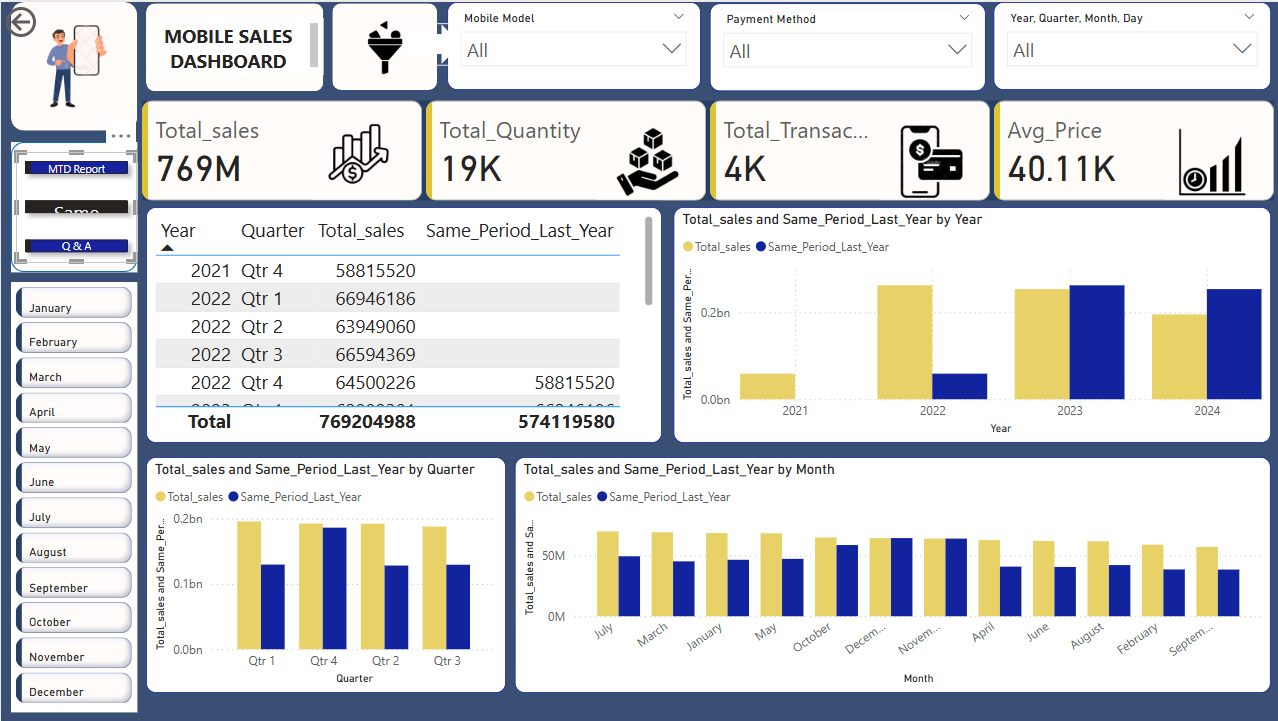

The page's visual inventory and layout, read from the dashboard file:
{"tool":"powerbi","page":{"name":"Same period last year ","canvas":[1280,720],"ordinal":2},"visuals":[{"type":"shape","box":[10,0,126.2,128.8],"z":0},{"type":"image","box":[15,6.2,121.2,112.5],"z":1000},{"type":"shape","box":[10,140,126.2,130],"z":2000},{"type":"cardVisual","fields":{"Data":["Mobile_Sales_Data.Total_sales","Mobile_Sales_Data.Total_Quantity","Mobile_Sales_Data.Total_Transactions","Mobile_Sales_Data.Avg_Price"]},"box":[136.3,94.1,1143.7,111],"z":3000},{"type":"slicer","fields":{"Values":["Mobile_Sales_Data.Mobile Model"]},"box":[446.4,0,253.4,88.1],"z":4000},{"type":"slicer","fields":{"Values":["Custom_Calendar.Date.Variation.Date Hierarchy.Year","Custom_Calendar.Date.Variation.Date Hierarchy.Quarter","Custom_Calendar.Date.Variation.Date Hierarchy.Month","Custom_Calendar.Date.Variation.Date Hierarchy.Day"]},"box":[992.9,0,277.5,88.1],"z":5000},{"type":"slicer","fields":{"Values":["Mobile_Sales_Data.Payment Method"]},"box":[708.2,1.2,276.3,88.1],"z":6000},{"type":"shape","box":[331.8,1.2,105,86.9],"z":7000},{"type":"image","box":[341.4,4.8,86.9,79.6],"z":8000},{"type":"shape","box":[404.2,21.7,57.9,42.2],"z":9000},{"type":"shape","box":[144.8,1.2,177.3,88.1],"z":10000},{"type":"textbox","box":[144.8,15.7,177.3,56.7],"z":11000},{"type":"actionButton","box":[0,0,100,40],"z":12000},{"type":"advancedSlicerVisual","fields":{"Values":["Custom_Calendar.Date.Variation.Date Hierarchy.Month"]},"box":[10,280,126.2,430],"z":13000},{"type":"tableEx","fields":{"Values":["Custom_Calendar.Date.Variation.Date Hierarchy.Year","Custom_Calendar.Date.Variation.Date Hierarchy.Quarter","Mobile_Sales_Data.Total_sales","Mobile_Sales_Data.Same_Period_Last_Year"]},"box":[145,205,516.2,236.2],"z":14000},{"type":"clusteredColumnChart","fields":{"Category":["Custom_Calendar.Date.Variation.Date Hierarchy.Year","Custom_Calendar.Date.Variation.Date Hierarchy.Quarter"],"Y":["Mobile_Sales_Data.Total_sales","Mobile_Sales_Data.Same_Period_Last_Year"]},"box":[672.5,205,597.5,236.2],"z":15000},{"type":"clusteredColumnChart","fields":{"Category":["Custom_Calendar.Date.Variation.Date Hierarchy.Year","Custom_Calendar.Date.Variation.Date Hierarchy.Quarter"],"Y":["Mobile_Sales_Data.Total_sales","Mobile_Sales_Data.Same_Period_Last_Year"]},"box":[145,455,360,236.2],"z":16000},{"type":"clusteredColumnChart","fields":{"Y":["Mobile_Sales_Data.Total_sales","Mobile_Sales_Data.Same_Period_Last_Year"],"Category":["Custom_Calendar.Date.Variation.Date Hierarchy.Month"]},"box":[513.8,455,756.2,236.2],"z":17000},{"type":"pageNavigator","box":[15,150,121.2,111.2],"z":17001}]}

Visuals, with their boxes on the page's 1280x720 design canvas (x1, y1, x2, y2). These are canvas units, not pixel positions in the 1278x721 screenshot, which may show the page scaled, cropped or inside an application window:
shape: [10, 0, 136, 129]
image: [15, 6, 136, 119]
shape: [10, 140, 136, 270]
cardVisual - Mobile_Sales_Data.Total_sales x Mobile_Sales_Data.Total_Quantity: [136, 94, 1280, 205]
slicer - Mobile_Sales_Data.Mobile Model: [446, 0, 700, 88]
slicer - Custom_Calendar.Date.Variation.Date Hierarchy.Year x Custom_Calendar.Date.Variation.Date Hierarchy.Quarter: [993, 0, 1270, 88]
slicer - Mobile_Sales_Data.Payment Method: [708, 1, 984, 89]
shape: [332, 1, 437, 88]
image: [341, 5, 428, 84]
shape: [404, 22, 462, 64]
shape: [145, 1, 322, 89]
textbox: [145, 16, 322, 72]
actionButton: [0, 0, 100, 40]
advancedSlicerVisual - Custom_Calendar.Date.Variation.Date Hierarchy.Month: [10, 280, 136, 710]
tableEx - Custom_Calendar.Date.Variation.Date Hierarchy.Year x Custom_Calendar.Date.Variation.Date Hierarchy.Quarter: [145, 205, 661, 441]
clusteredColumnChart - Custom_Calendar.Date.Variation.Date Hierarchy.Year x Custom_Calendar.Date.Variation.Date Hierarchy.Quarter: [672, 205, 1270, 441]
clusteredColumnChart - Custom_Calendar.Date.Variation.Date Hierarchy.Year x Custom_Calendar.Date.Variation.Date Hierarchy.Quarter: [145, 455, 505, 691]
clusteredColumnChart - Mobile_Sales_Data.Total_sales x Mobile_Sales_Data.Same_Period_Last_Year: [514, 455, 1270, 691]
pageNavigator: [15, 150, 136, 261]
